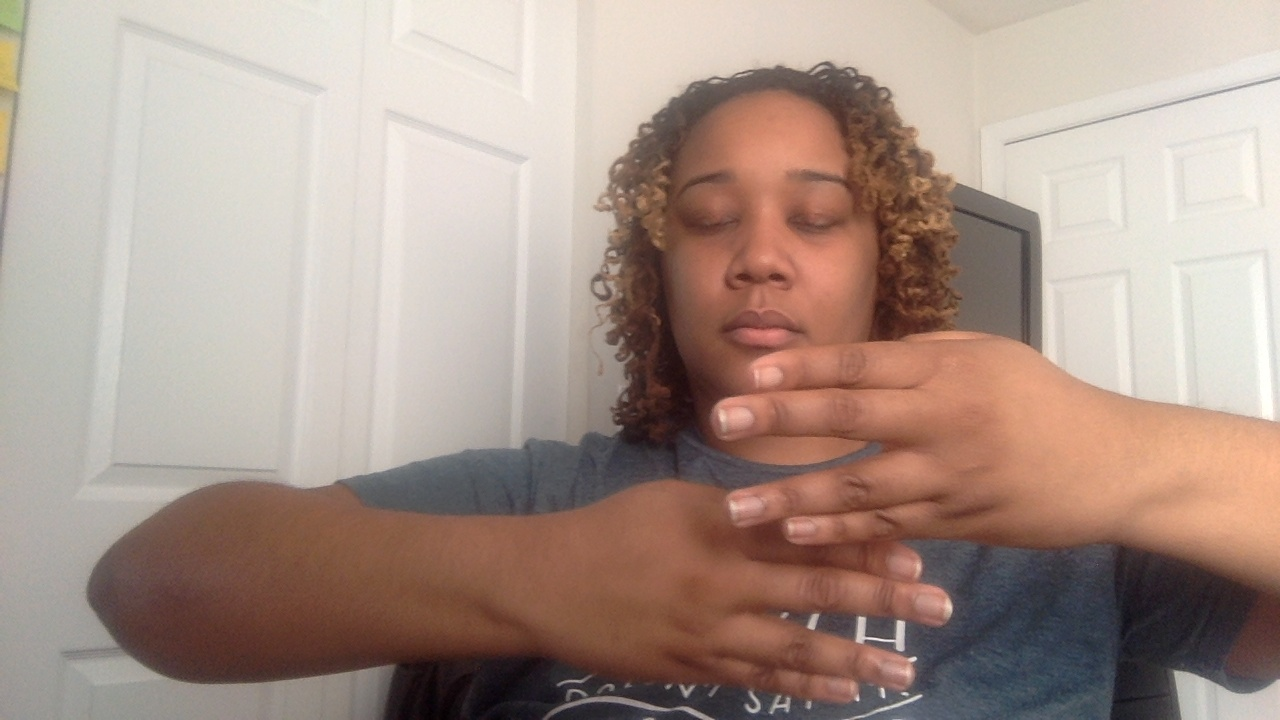world: (606, 326, 1012, 720)
